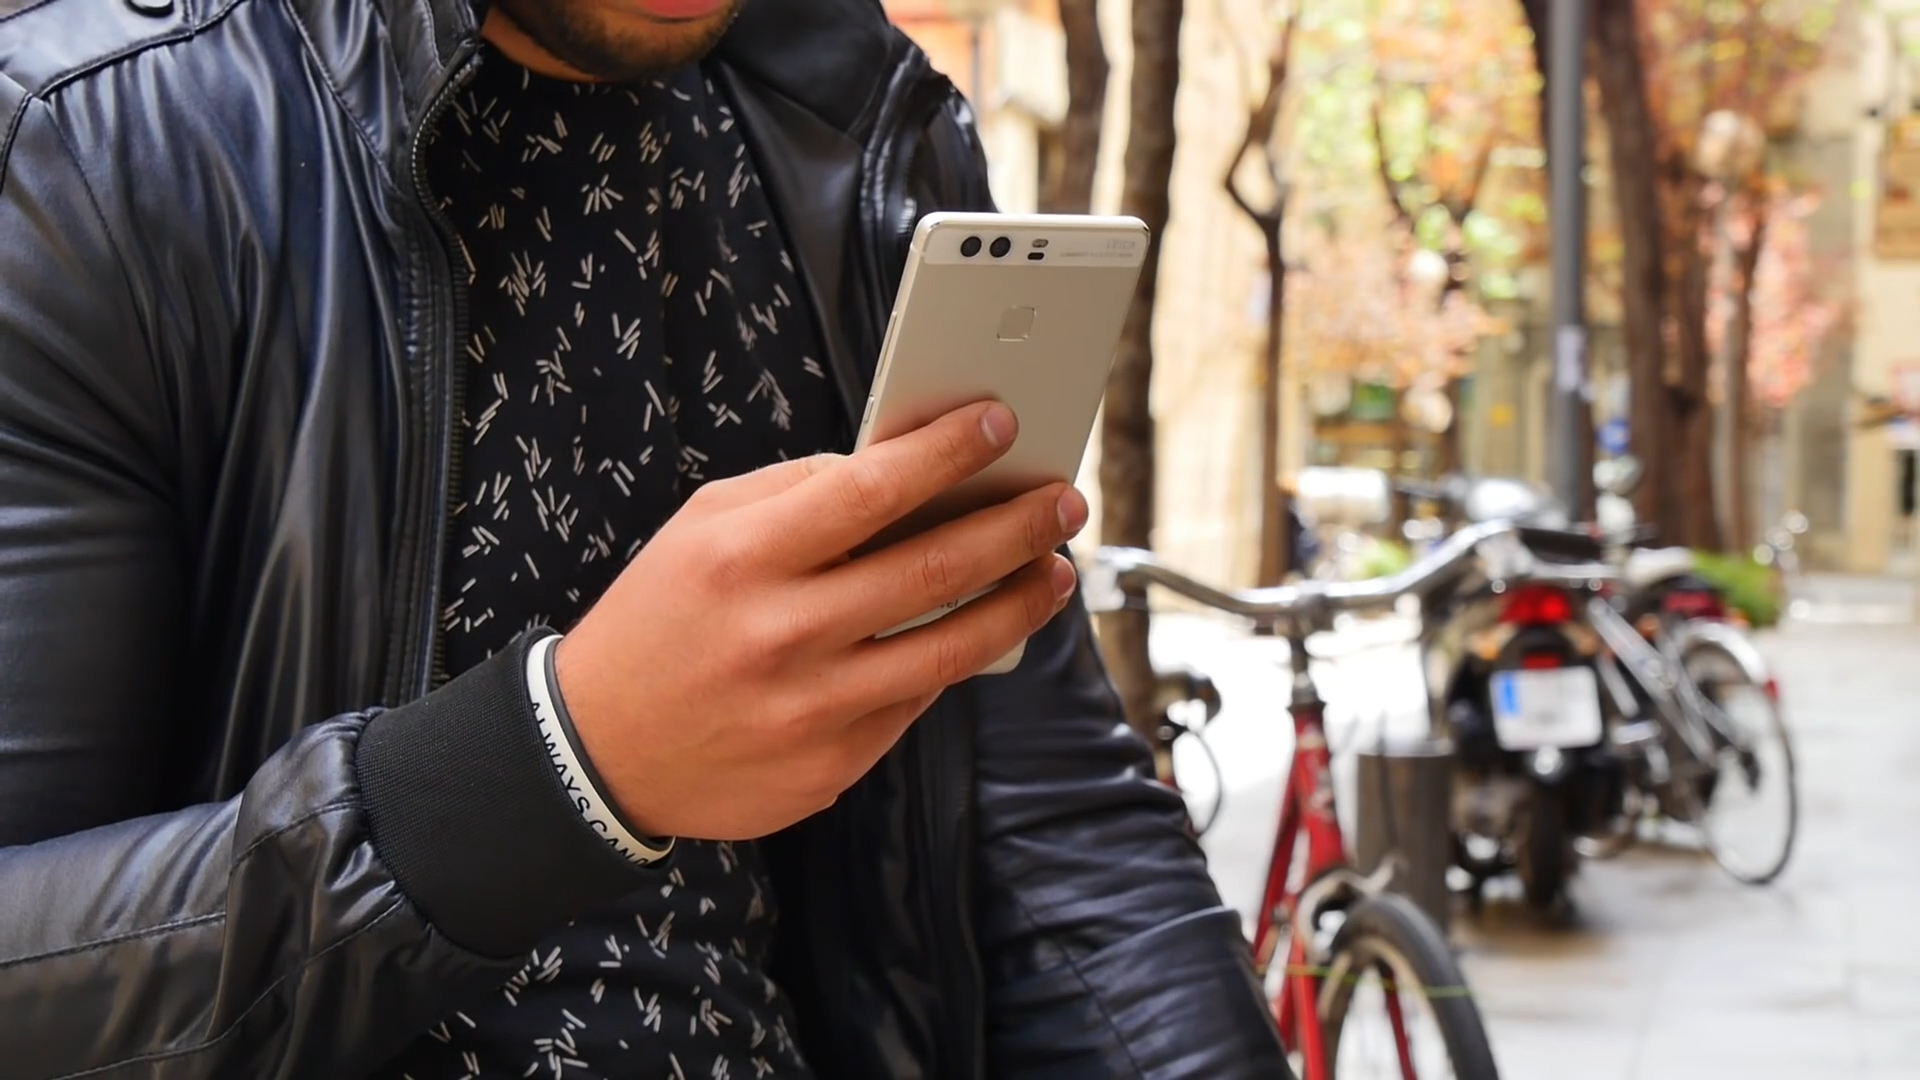smartphone: (835, 210, 1154, 680)
